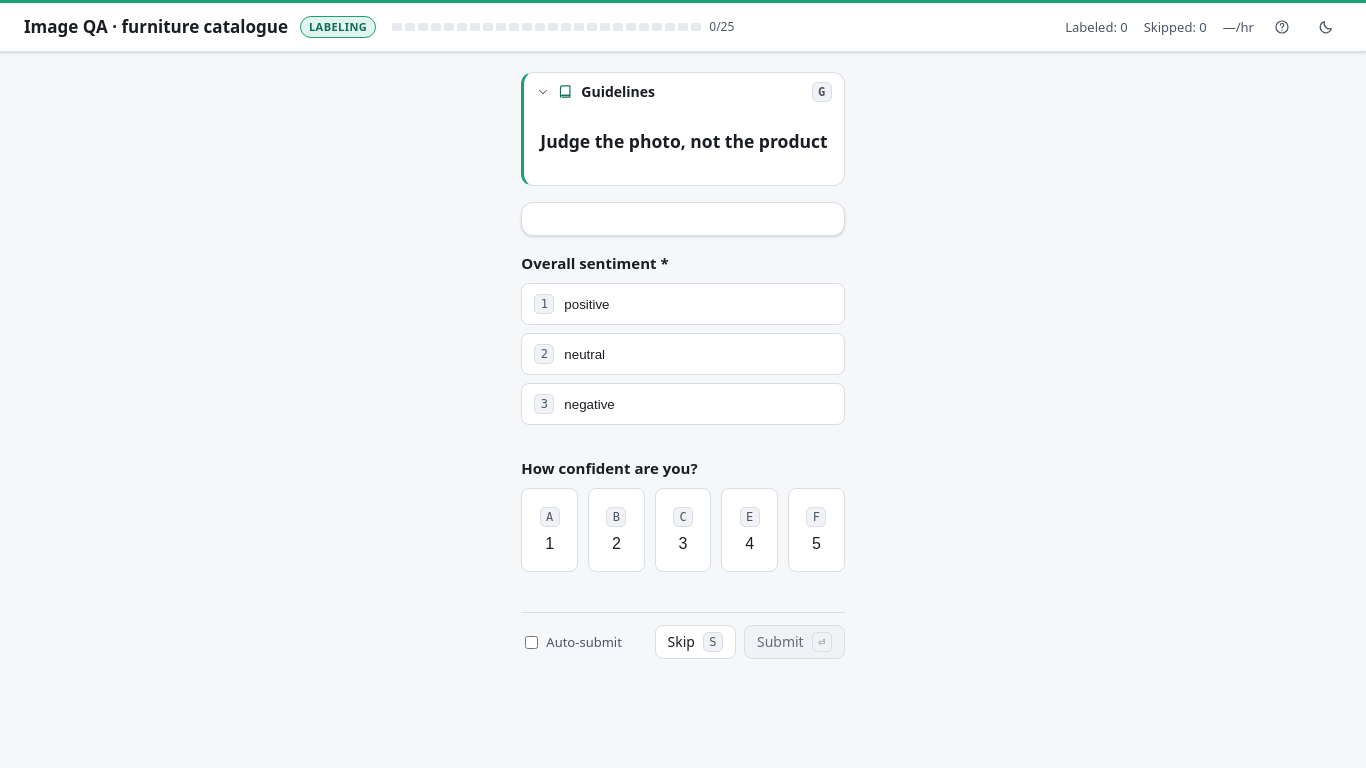
Test case: labeler surface — shortcuts dialog › groups the shortcuts by the field they belong to
Expected: the element with test id "input-sentiment" is shown, left=521, top=252, right=845, bottom=425
Click the button with test id "btn-help".
click(1282, 27)  # box left=1266, top=11, right=1298, bottom=43
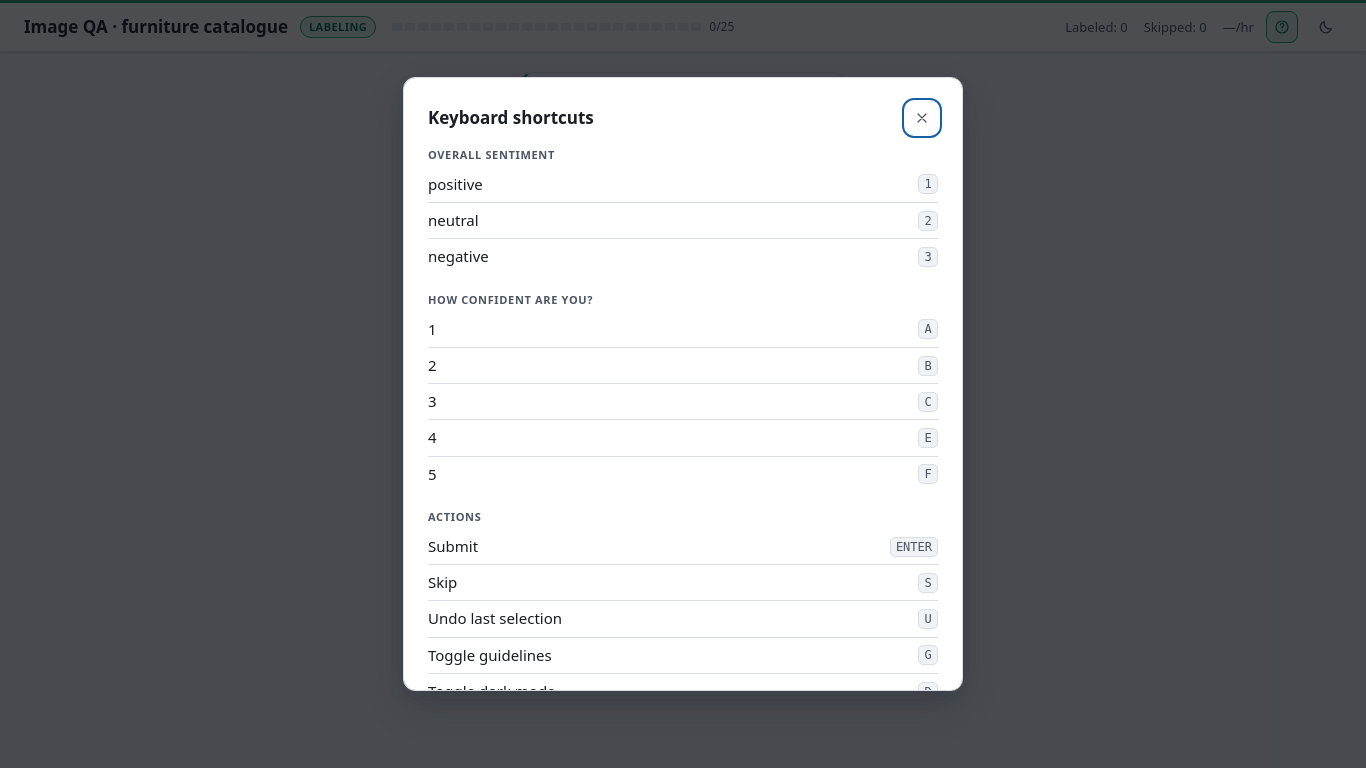
Now the heading "Actions" is shown, box left=428, top=509, right=481, bottom=524
